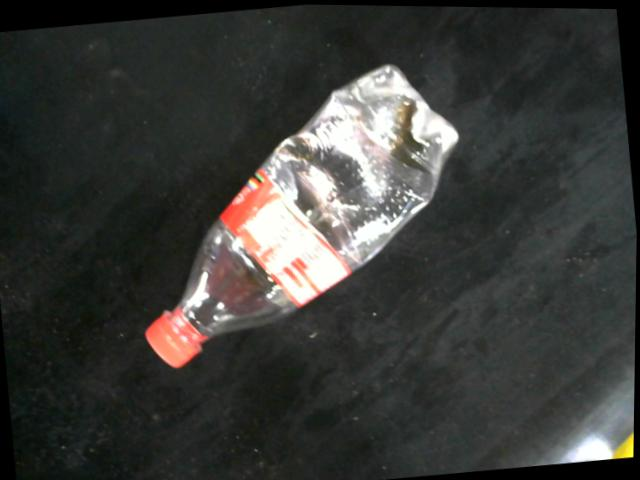bottle: (144, 62, 461, 371)
